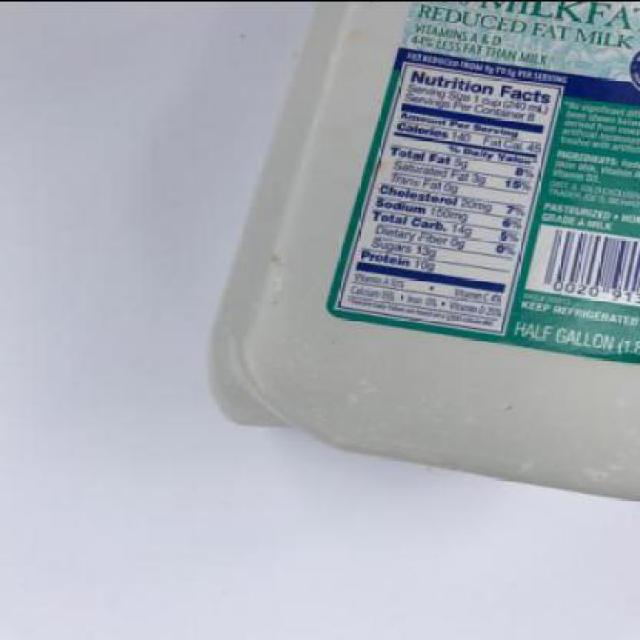PLASTIC: (207, 1, 638, 502)
